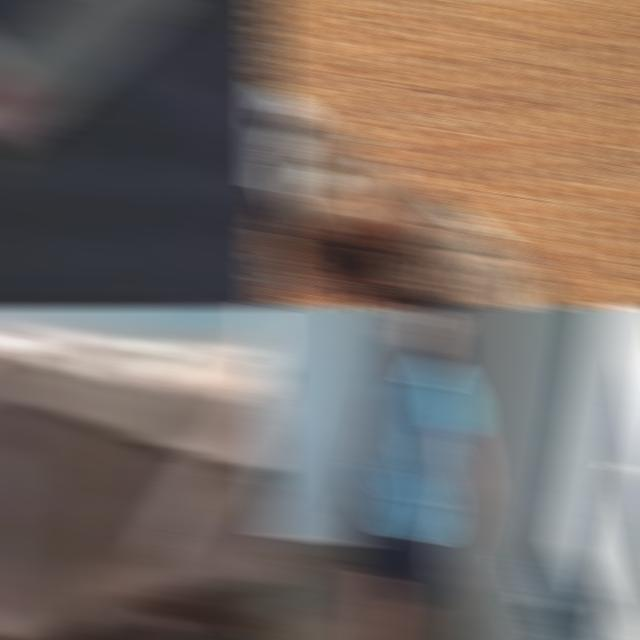Knife: (0, 0, 278, 144), (140, 354, 278, 564), (336, 492, 380, 522)
Knife_Handle: (0, 0, 278, 242), (141, 306, 278, 570), (328, 472, 378, 524)
